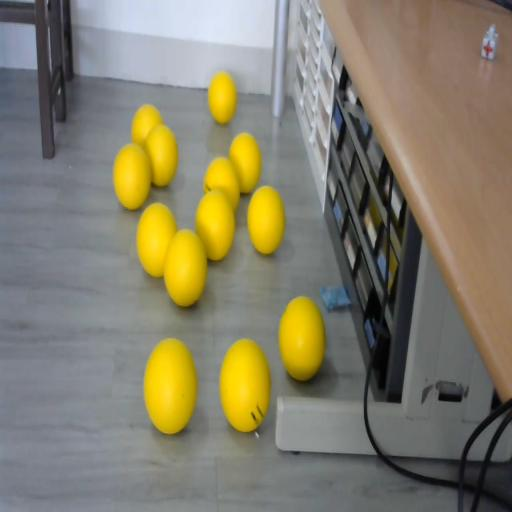FUEL: (142, 337, 198, 434), (218, 338, 272, 432), (278, 296, 326, 381), (136, 202, 177, 277), (195, 189, 236, 260), (246, 184, 286, 255), (112, 143, 152, 209), (144, 123, 179, 187), (228, 132, 262, 193), (208, 71, 236, 124)
